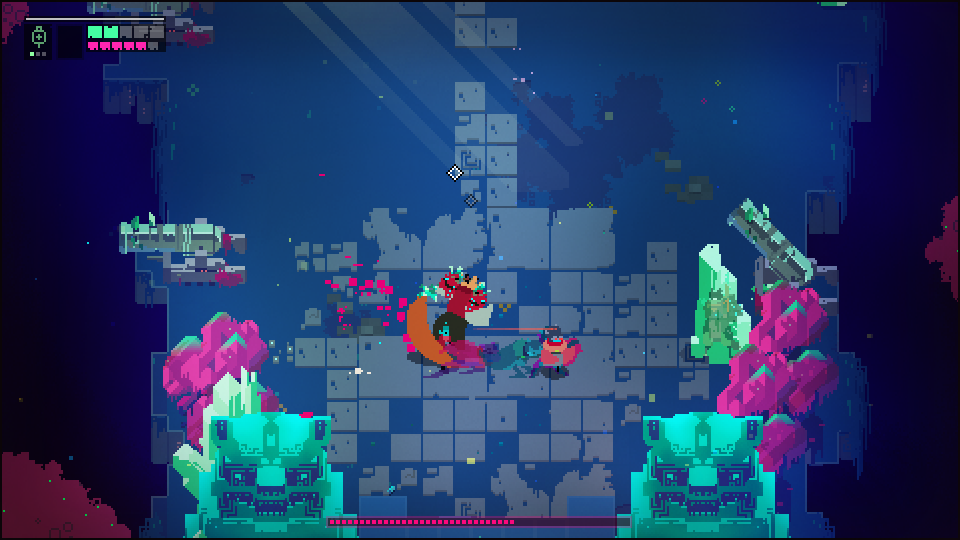hanged_man: (403, 266, 494, 370)
player: (542, 325, 566, 379)
